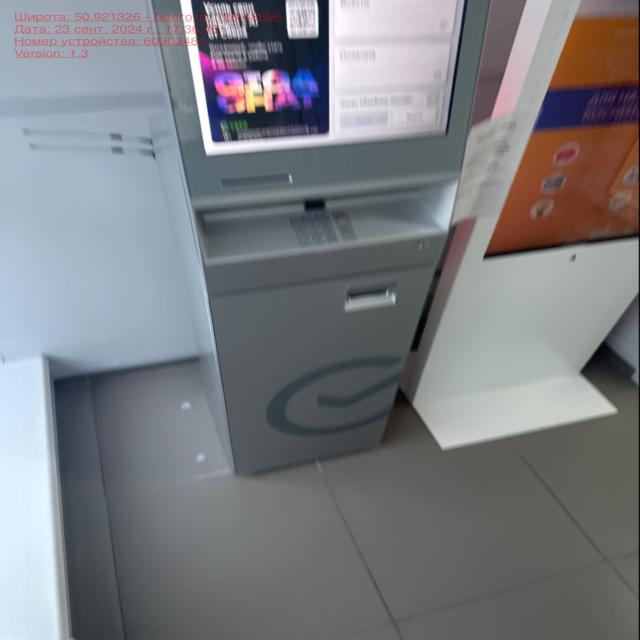bank: (154, 0, 475, 473)
